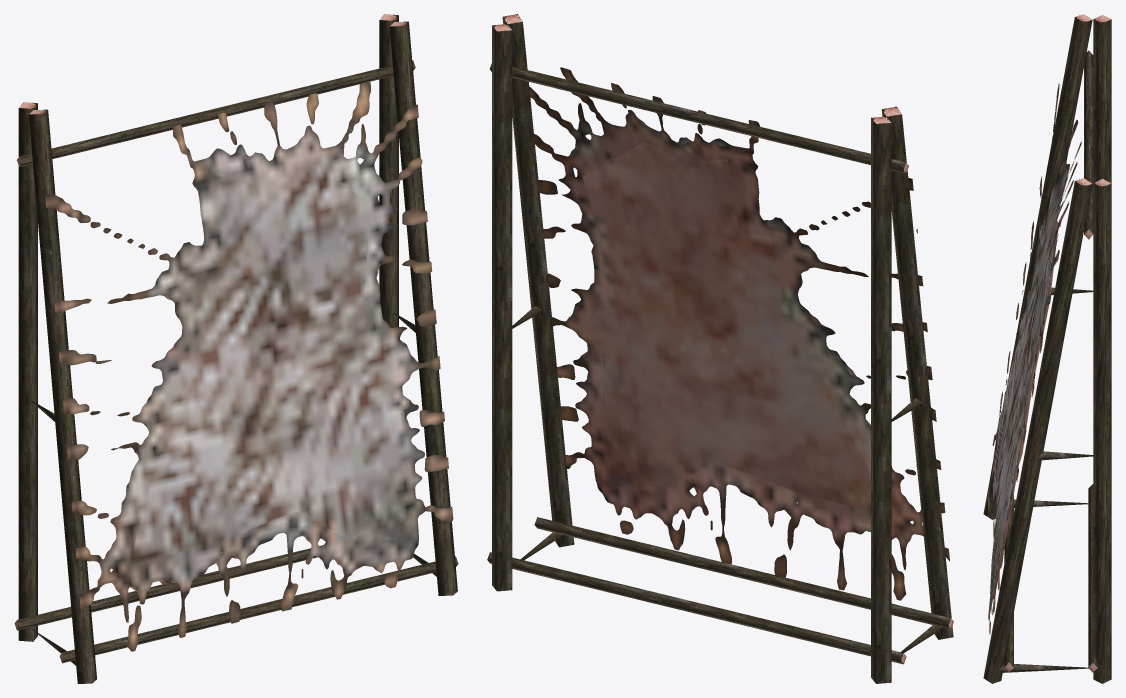
File: thm_dant_hide_tanning_s02_l3.fbx
3 views of the same model, side by side, from view 1: azimuth 30°, elevation 25°; view 2: azimuth 150°, elevation 25°; view 3: azimuth 270°, elevation 25° (orthographic). The views are drawn at different scales.
Visible parts, largest first — view 1: mesh_node; view 2: mesh_node; view 3: mesh_node.
Boxes of the visible parts, x1,y1,x2,y2 form: mesh_node: (14,14,458,683); mesh_node: (487,14,953,683); mesh_node: (983,14,1111,683).
Bounding box in the file's own units: 1.39 × 1.81 × 0.4214.
Materials: 2 (2 with a texture image).
